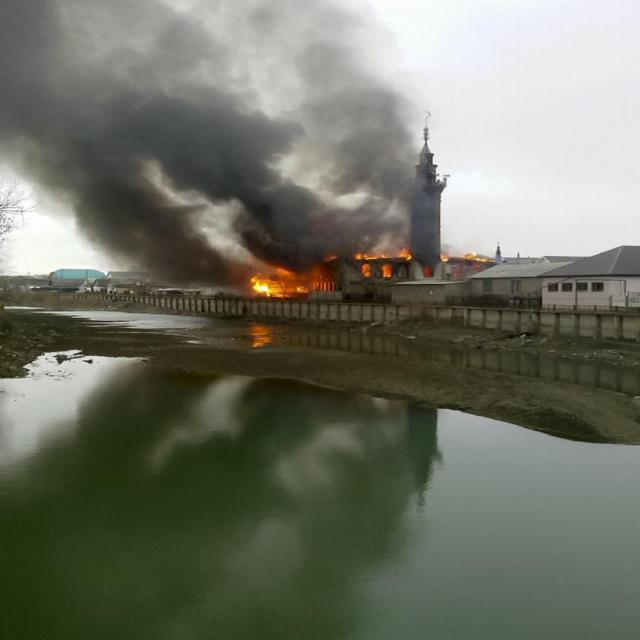Fire: (344, 228, 500, 272), (233, 260, 326, 314)
